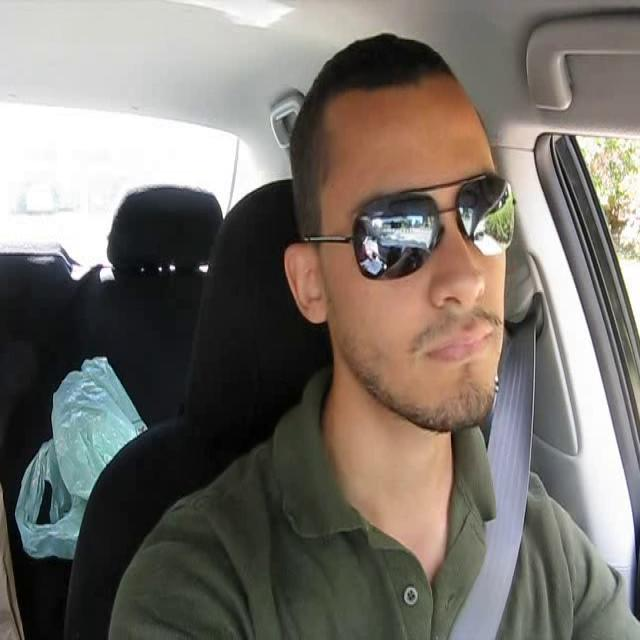close: (416, 320, 500, 366)
